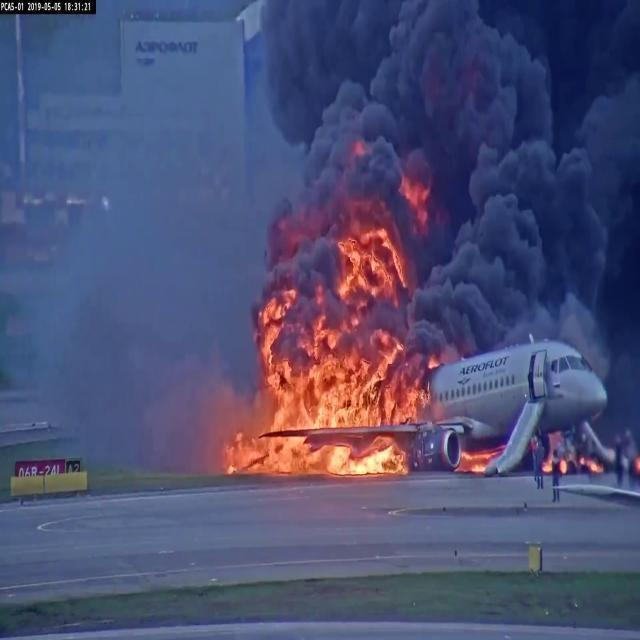Fire: (265, 295, 420, 420), (248, 441, 404, 471), (337, 233, 402, 300)
Smoke: (287, 0, 637, 134), (415, 145, 604, 353)
